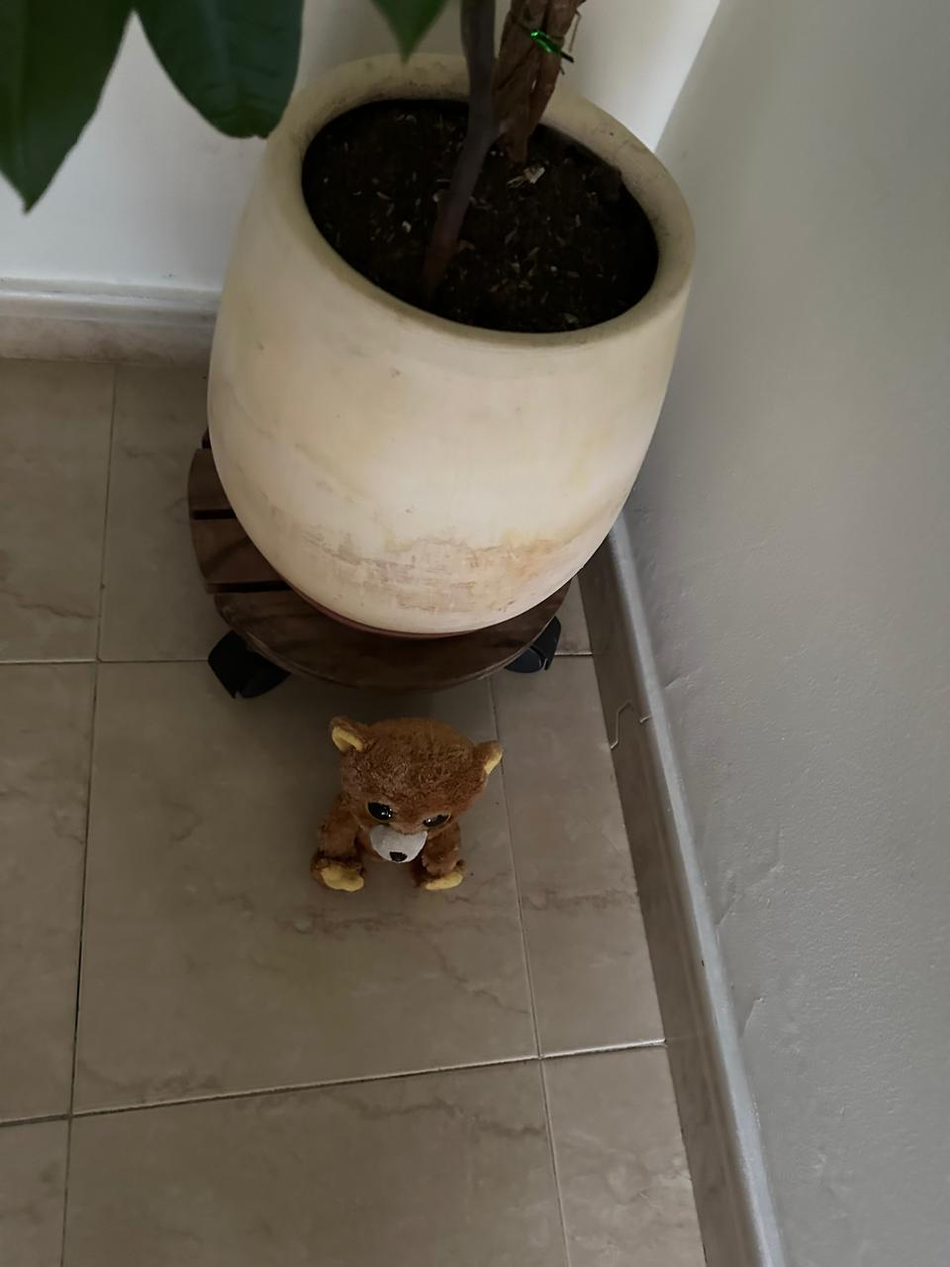peluche_sebastian: (307, 710, 510, 901)
